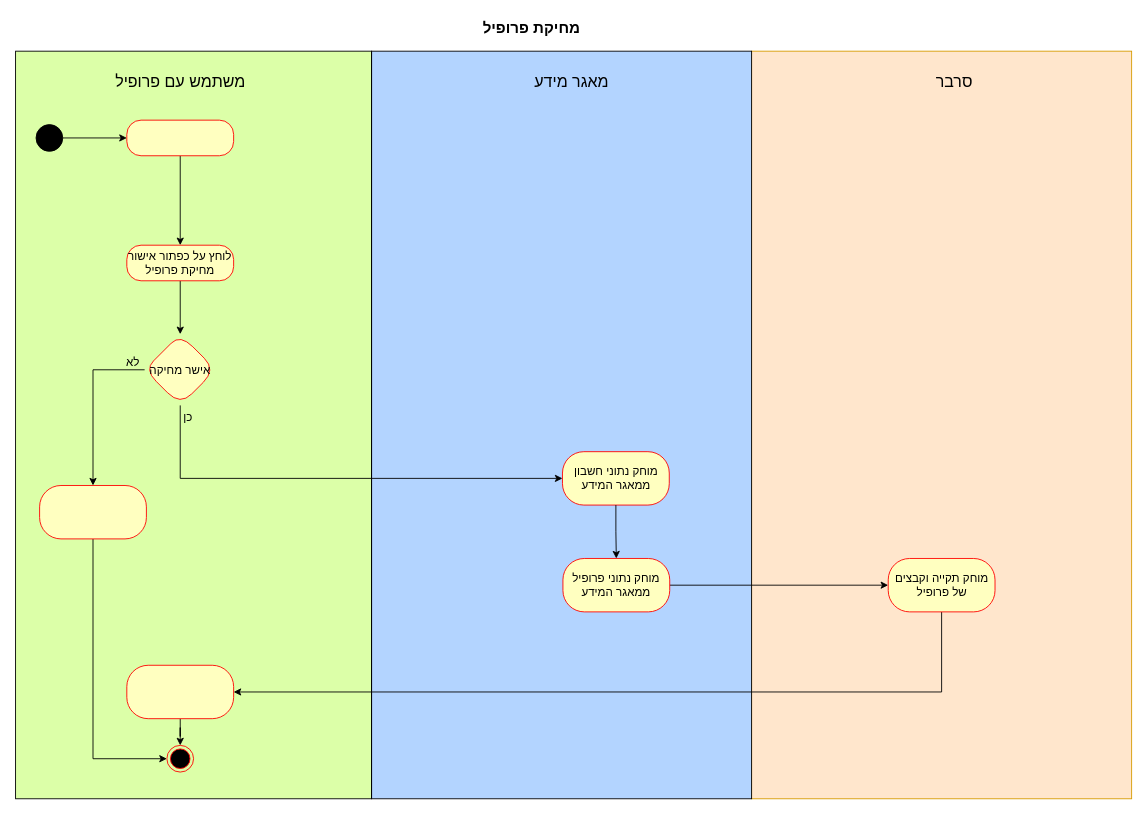
This 1147x815 diagram has some shape labels left out. Each missing label, with the centre of its shape:
"לוחץ על כפתור מחק פרופיל" belongs at point (180, 137).
"עובר לדף הפרופיל" belongs at point (92, 512).
"עובר לדף הראשי" belongs at point (180, 691).
